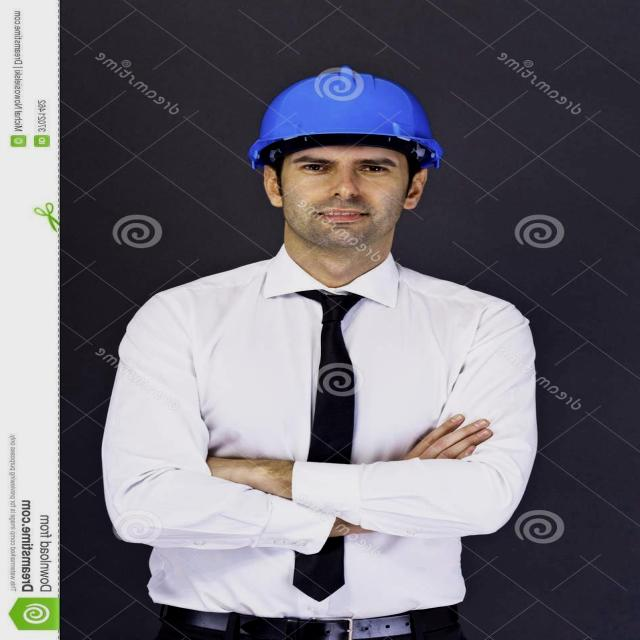face_nomask: (267, 143, 409, 256)
head_helmet: (245, 69, 444, 165)
person: (106, 63, 547, 636)
